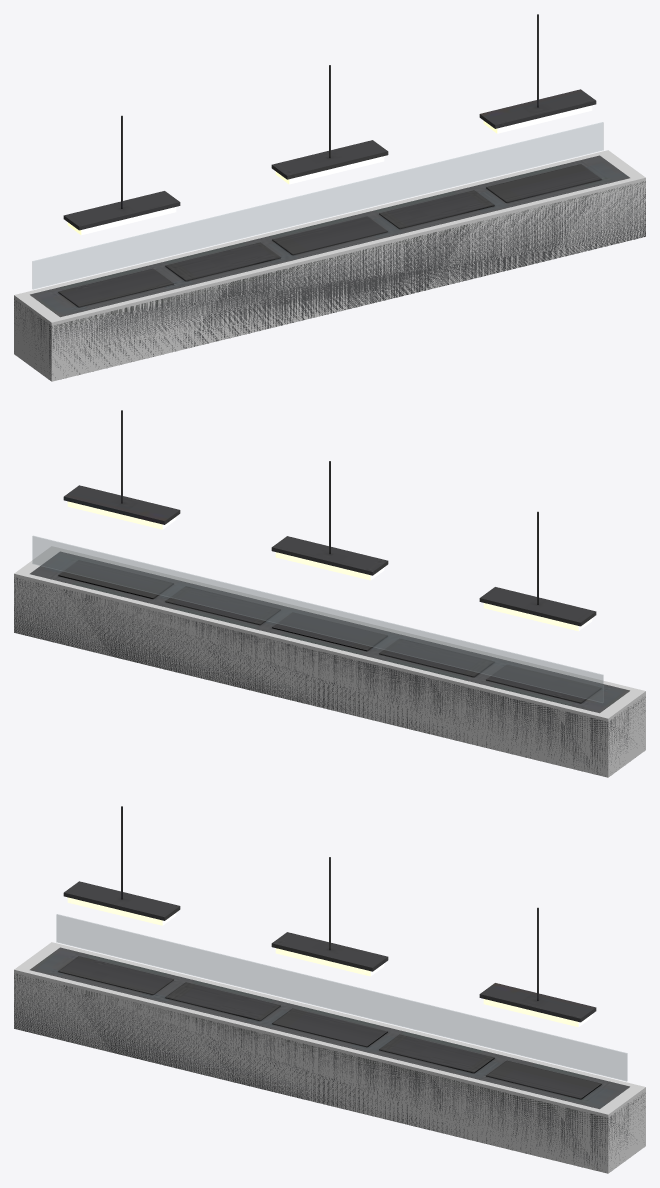
The model's file is serving_counter.glb.
The picture shows the model from 3 angles, top to bottom: view 1: azimuth 30°, elevation 25°; view 2: azimuth 150°, elevation 25°; view 3: azimuth 330°, elevation 25°; orthographic projection.
Visible parts, largest first — view 1: ServingCounter, COL_Body; view 2: ServingCounter, COL_Body; view 3: ServingCounter, COL_Body.
Boxes of the visible parts, x1,y1,x2,y2 form: ServingCounter: [14, 14, 645, 379]; COL_Body: [14, 150, 645, 381]; ServingCounter: [14, 410, 645, 776]; COL_Body: [14, 546, 645, 777]; ServingCounter: [14, 806, 645, 1172]; COL_Body: [14, 942, 645, 1173].
Size of the model in its own units: 10 by 3.7 by 1.1.
5 materials, 4 textured.
